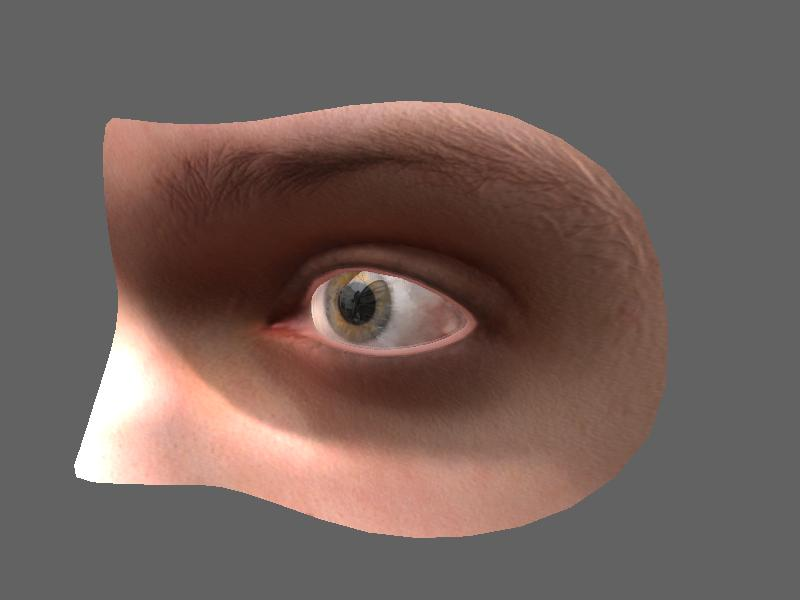iris: (325, 271, 390, 341)
